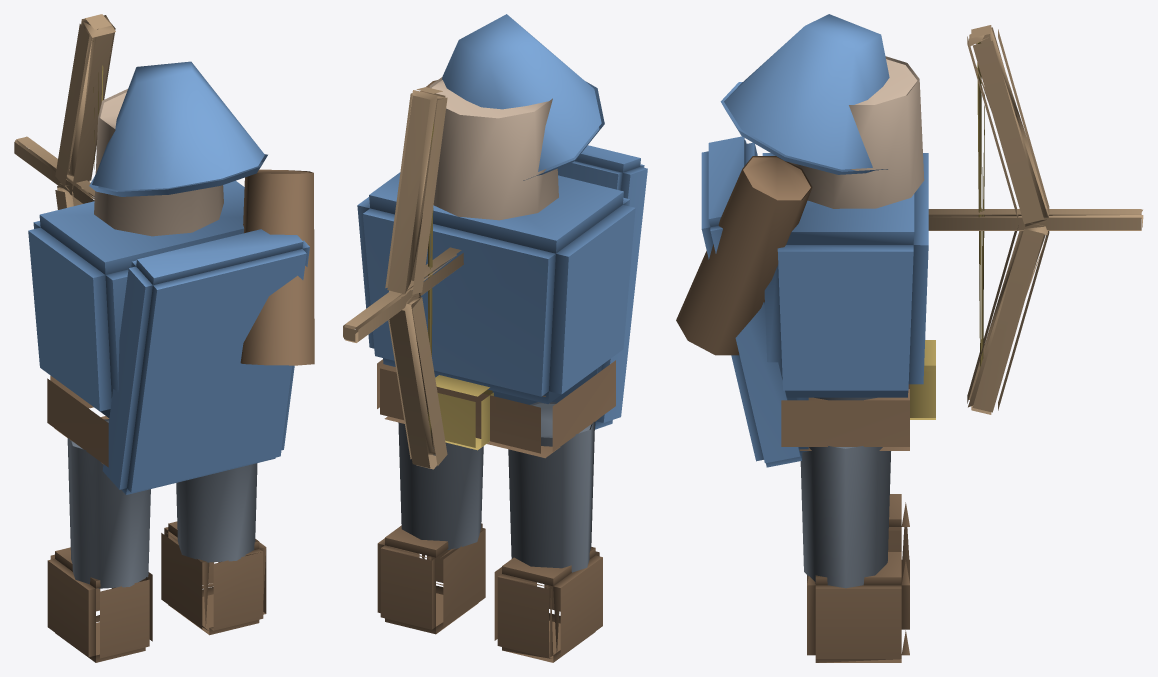
Rendered from lexi_archer_lod1.glb.
The picture shows the model from 3 angles, left to right: view 1: azimuth 30°, elevation 25°; view 2: azimuth 150°, elevation 25°; view 3: azimuth 270°, elevation 25°; orthographic projection. The views are drawn at different scales.
Visible parts, largest first — view 1: lexi_archer.001; view 2: lexi_archer.001; view 3: lexi_archer.001.
Part boxes in pixels (bbox=[...]): lexi_archer.001: bbox=[14, 14, 314, 662]; lexi_archer.001: bbox=[343, 14, 647, 662]; lexi_archer.001: bbox=[676, 14, 1143, 662].
Size of the model in its own units: 0.5779 by 1.47 by 1.04.
